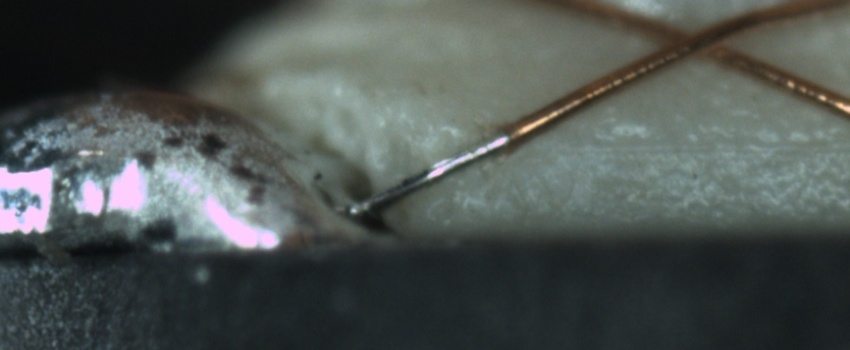CL: (653, 15, 739, 68)
DL: (527, 110, 850, 174)
TS: (348, 133, 511, 215)
TTCW: (344, 90, 580, 221)
